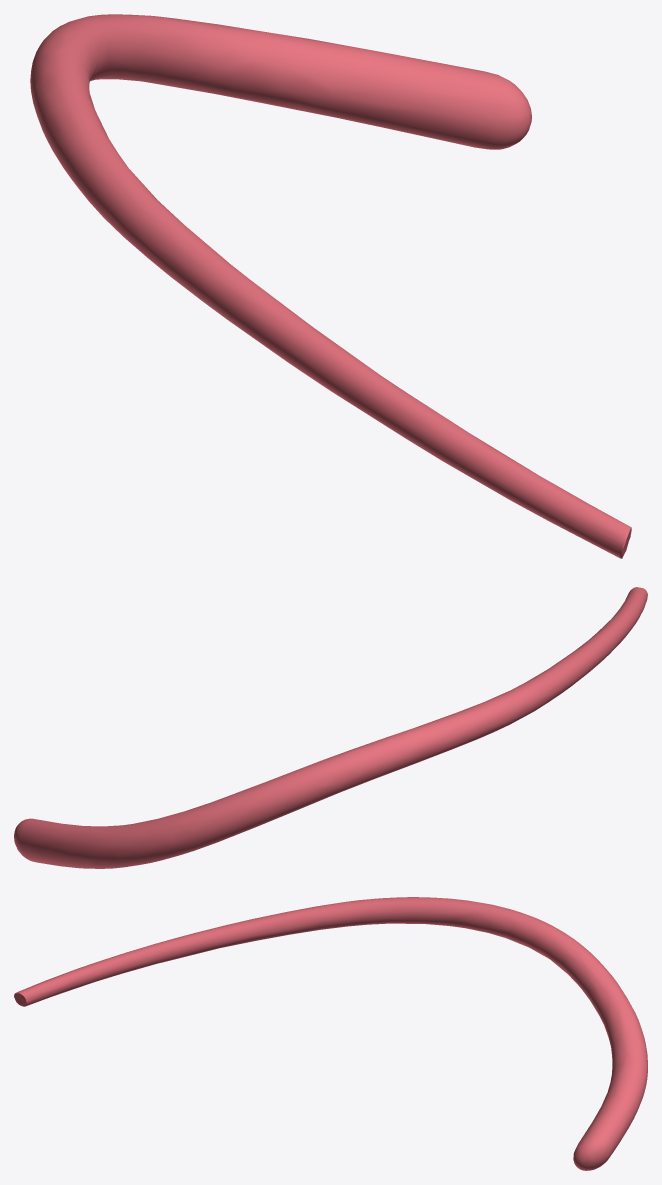
Rendered from fma44887_fj2151.glb.
3 renders of one model, top to bottom at view 1: azimuth 30°, elevation 25°; view 2: azimuth 150°, elevation 25°; view 3: azimuth 270°, elevation 25°, orthographic. The views are drawn at different scales.
Visible parts, largest first — view 1: FMA44887_FJ2151; view 2: FMA44887_FJ2151; view 3: FMA44887_FJ2151.
Part boxes in pixels (x1,y1,x2,y2): FMA44887_FJ2151: [30, 14, 631, 558]; FMA44887_FJ2151: [14, 587, 647, 868]; FMA44887_FJ2151: [14, 897, 647, 1170].
Size of the model in its own units: 0.0333 by 0.0136 by 0.0579.
